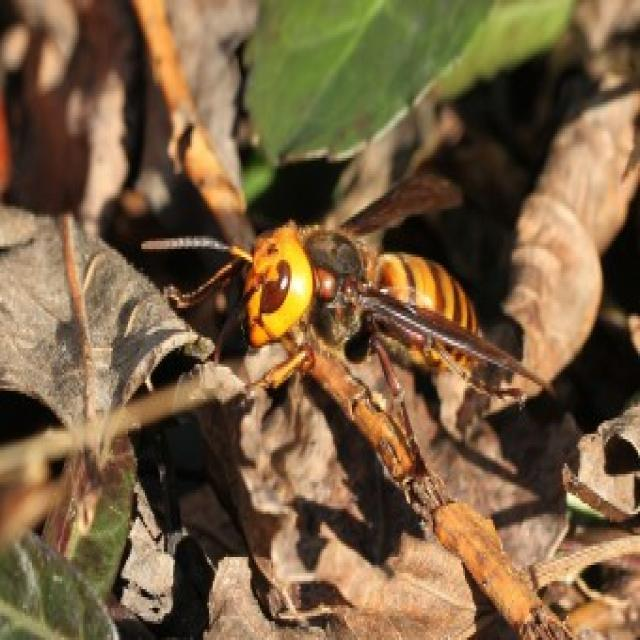Wasp: (235, 175, 560, 412)
